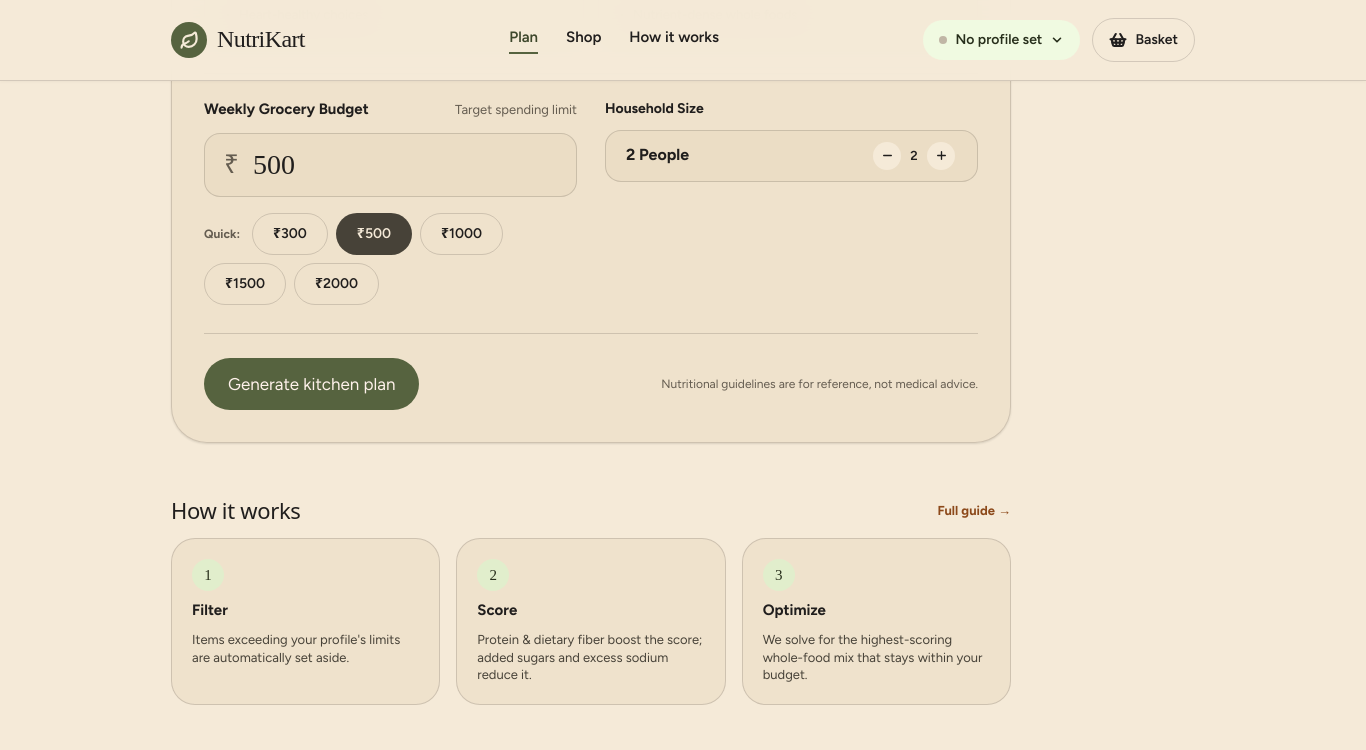
Test: Planner Request States › renders result state on successful recommendation response
The image size is (1366, 750).
(page scrolled)
Click the button "Generate kitchen plan".
click(312, 384)  # box [204,358,419,410]
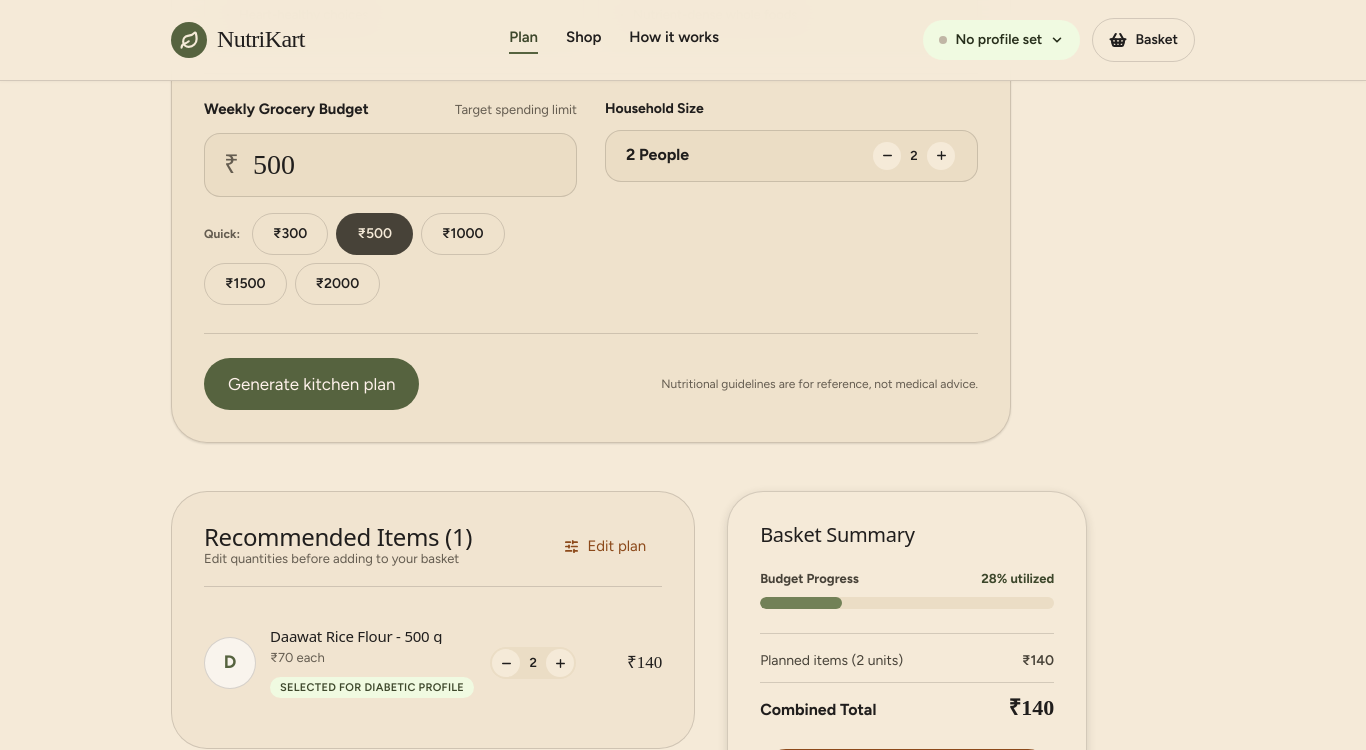
Check: the heading "Recommended Items (1)" is shown, box [204,524,472,550]
Check: the heading "Daawat Rice Flour - 500 g" is shown, box [270,626,442,646]
